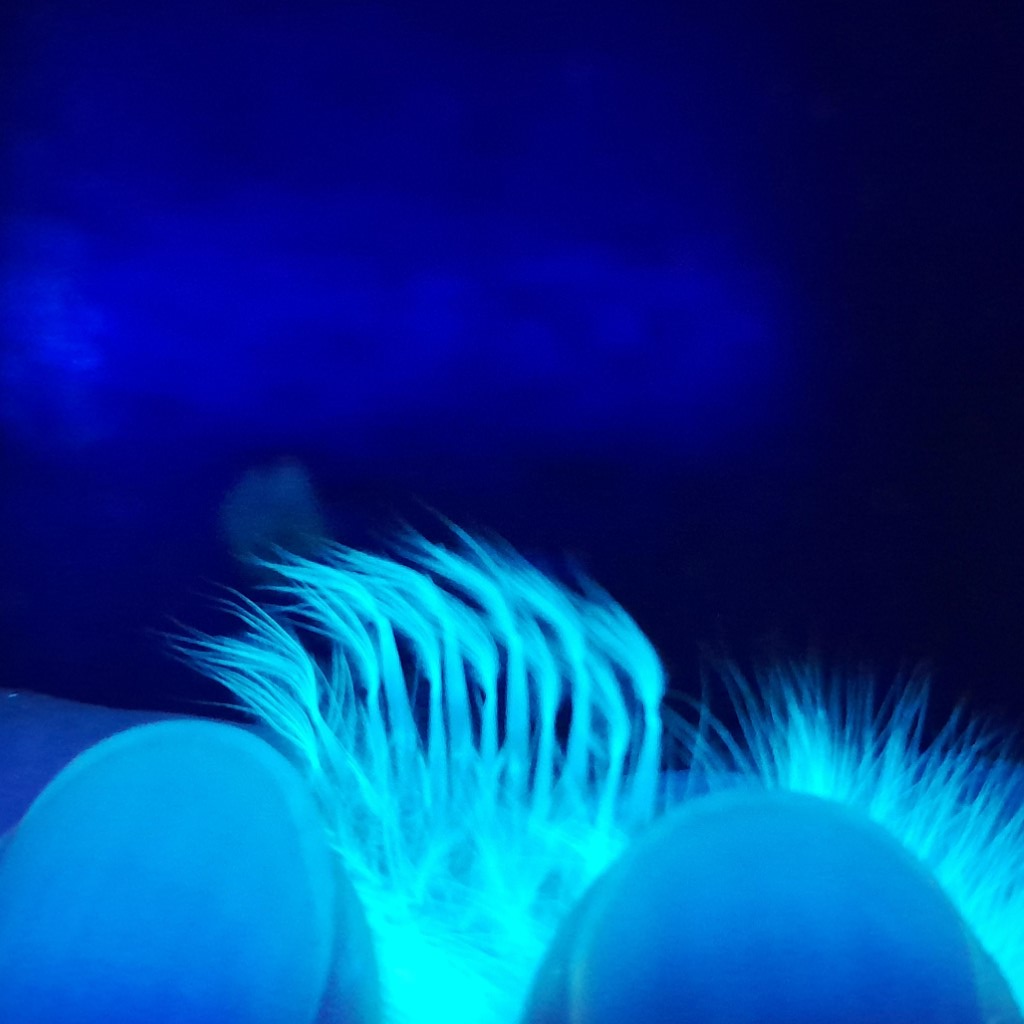female: (296, 589, 677, 903)
